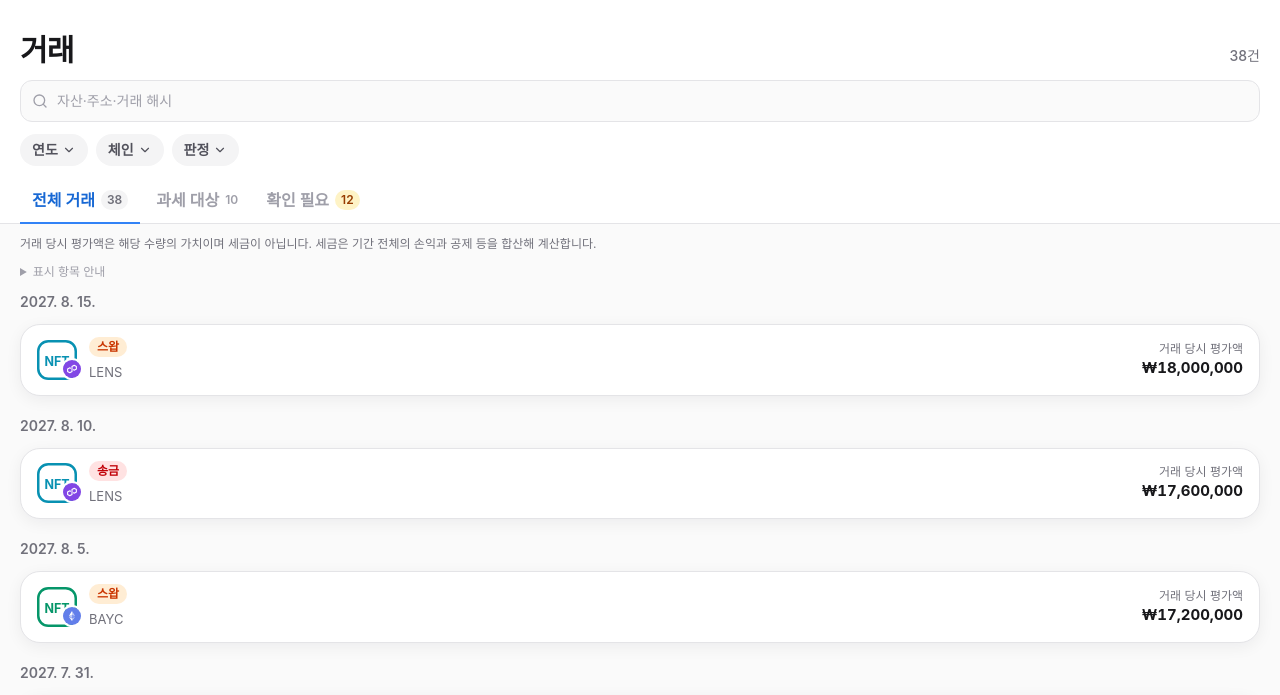
it: 거래 탭이 세금 대신 판정 도장을 찍는다 › 계산에서 빠진 이벤트는 계산 제외 도장을 받고 확인 필요 탭과 같은 집합이다
The image size is (1280, 695).
Click the tab "확인 필요 12". click: (313, 201)
box: [254,178,372,224]
(page scrolled)
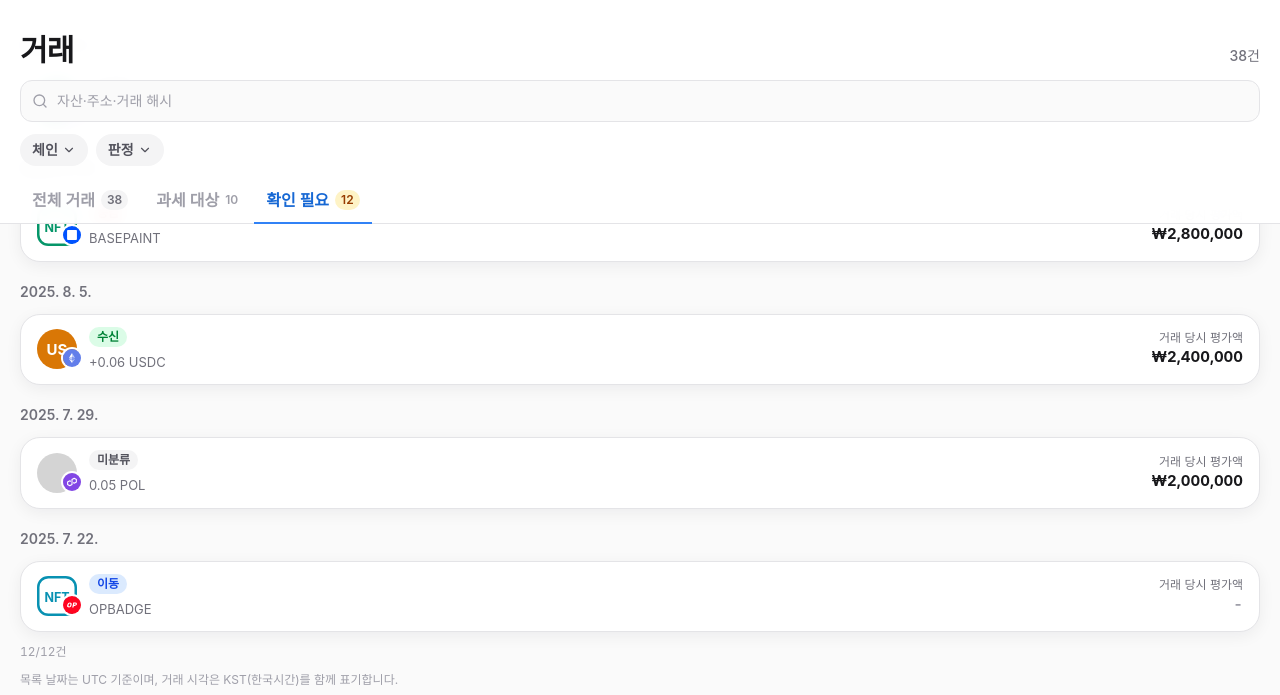
Click the button "미분류 0.05 POL 거래 당시 평가액 ₩2,000,000". click: (57, 473)
box: [20,437,1260,508]
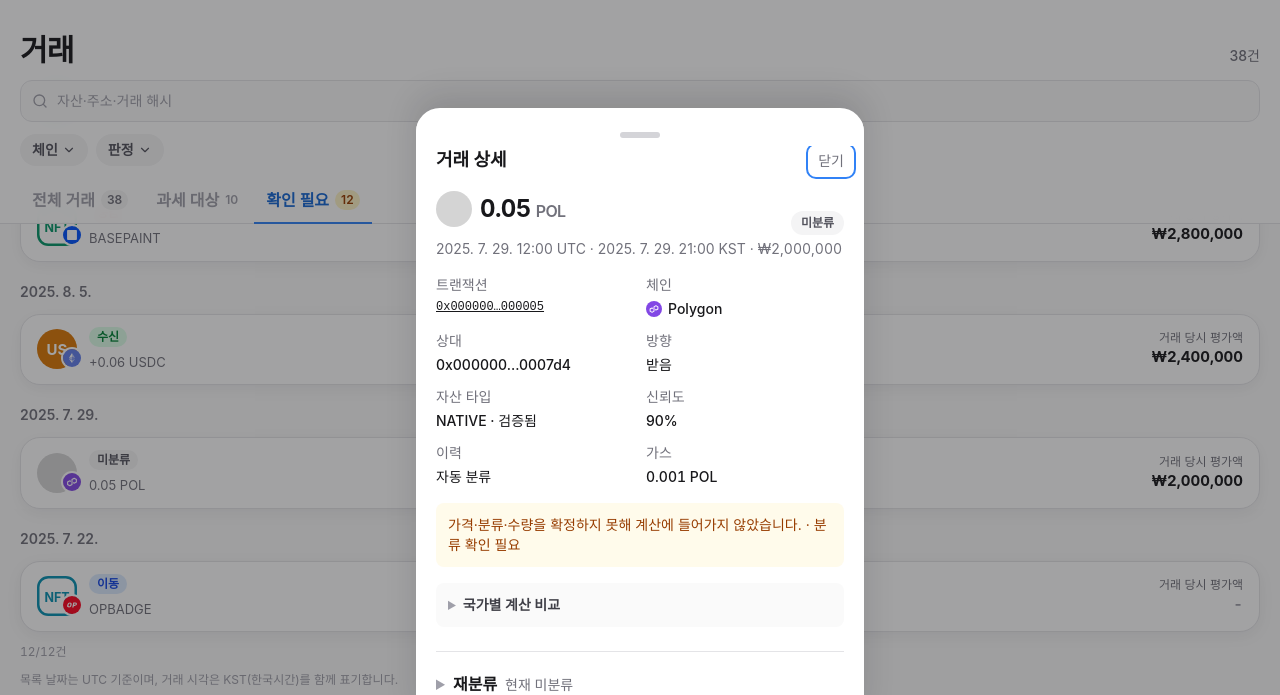
Expected: the heading "거래 상세" is shown, [436,146,506,174]
